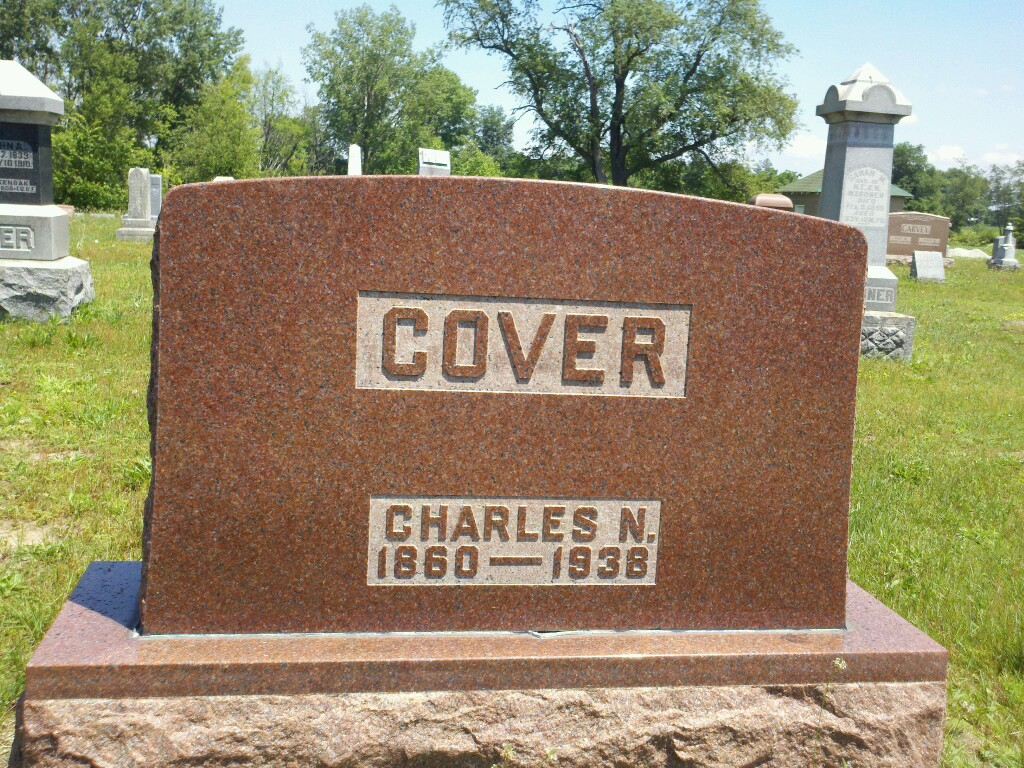upright: (15, 173, 949, 767)
